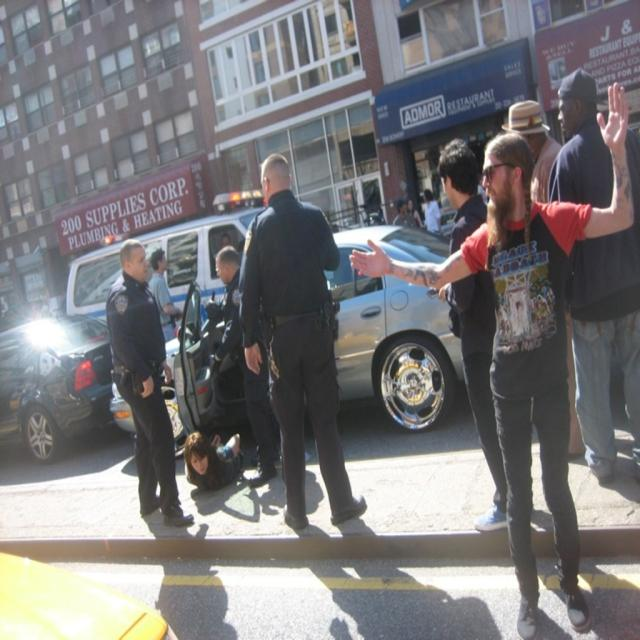car: (0, 310, 117, 465)
